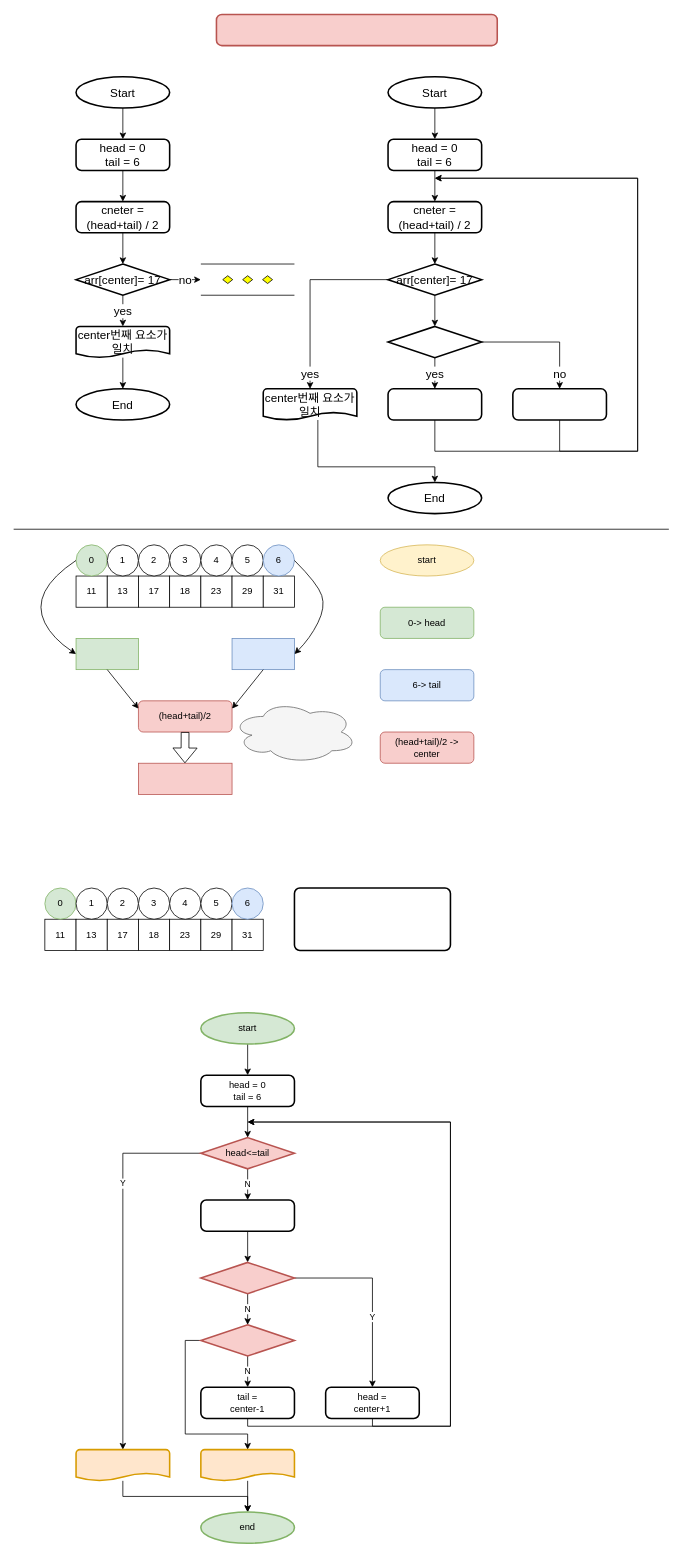
The diagram is 683 pixels wide and 1557 high, and some of its shapes have lost their labels. Here are the shapes that lost their labels. From the top down, the centre of each, then its label:
(356,29): Binary Search
(434,341): arr[center] > 17
(434,404): tail=center-1
(559,404): head=center+1
(106,654): head
(262,654): tail
(294,731): 가운데 요소의 첨자를 평균을 계산하여 알아낸다
(185,778): center=3
(372,919): head 0 tail 6 center 3 18 head 0 tail 2 center1 13 center+1 2 17 완료
(247,1215): center = (head+tail)/2
(247,1277): arr[center]<17
(247,1340): arr[center]=17
(122,1464): 찾는값이 없습니다.
(247,1464): center 번째 요소일치
